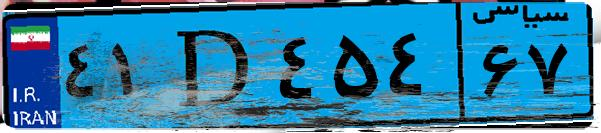1: (110, 28, 158, 98)
4: (270, 28, 330, 110), (385, 28, 445, 110), (57, 26, 110, 100)
5: (330, 28, 385, 110)
6: (475, 38, 525, 113)
7: (525, 38, 570, 115)
D: (158, 12, 270, 120)
